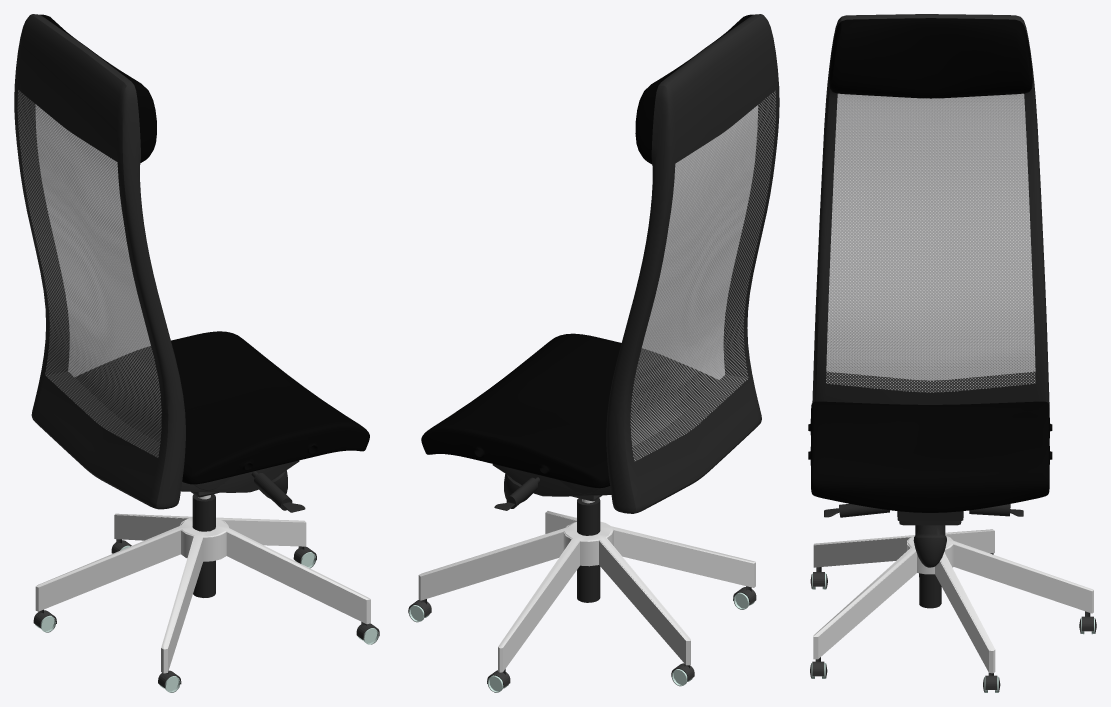
Rendered from chair-ikea-markus_lod1.glb.
The picture shows the model from 3 angles, left to right: view 1: azimuth 30°, elevation 25°; view 2: azimuth 150°, elevation 25°; view 3: azimuth 270°, elevation 25°; orthographic projection. The views are drawn at different scales.
Parts seen in each view (by area): view 1: body; view 2: body; view 3: body.
Boxes of the visible parts, x1,y1,x2,y2 form: body: (14, 14, 379, 692); body: (408, 14, 779, 692); body: (808, 14, 1096, 692).
Bounding box in the file's own units: 0.62 × 1.29 × 0.6.
Materials: 9 (1 with a texture image).
